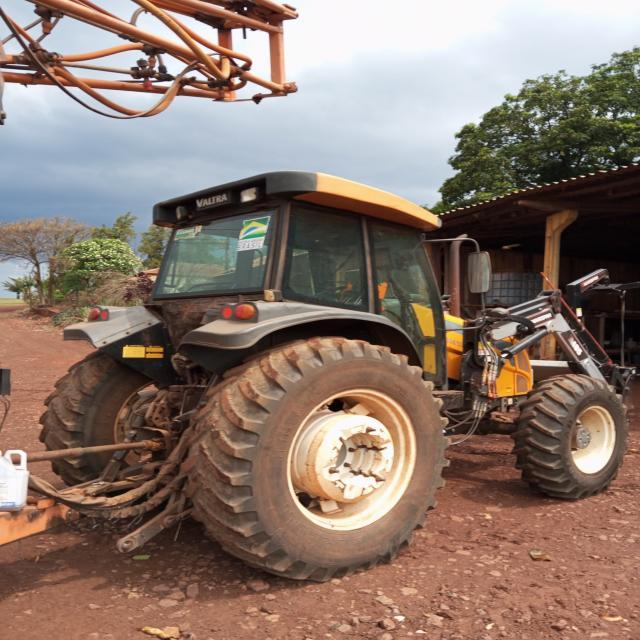Tratores - v5 YOLO V8L 2024-11-13: (48, 167, 625, 584)
